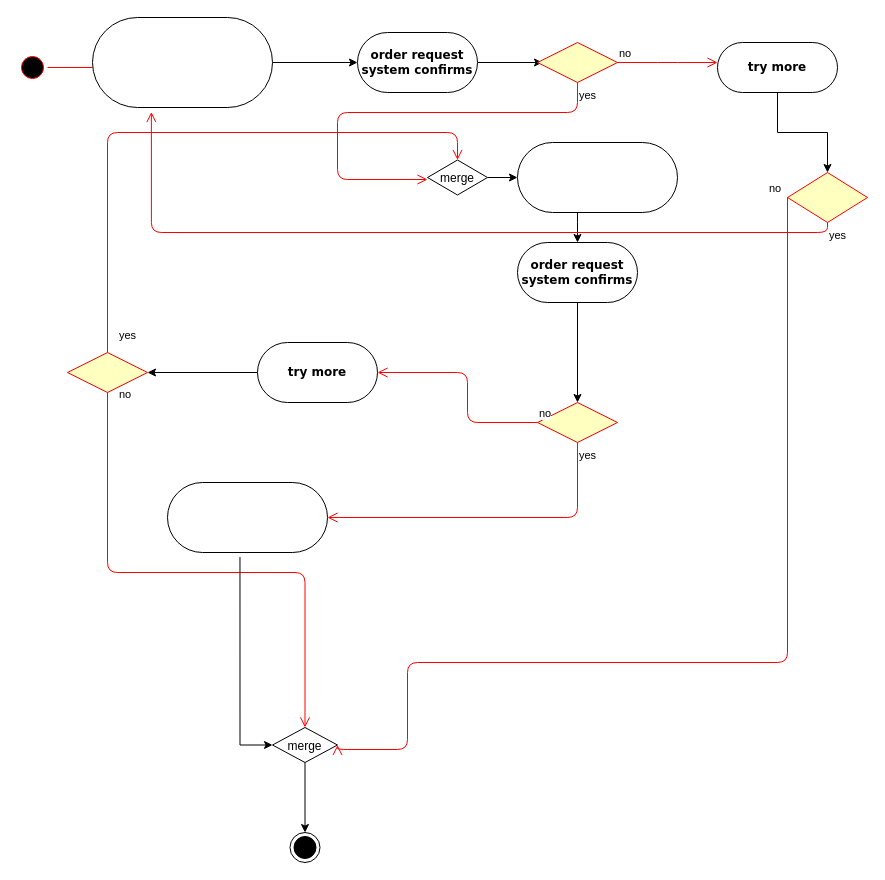
Image size: 885x880. Some labels were removed from this diagram. The shapes that lost their labels are listed below. From the top down, each one's box as (x1, y1, x2, y2) in pixels, then its label:
(92, 16, 272, 108): customer sends a request to see the information of main 10 categories
(516, 142, 678, 212): enter the name of a category you want to see it's information
(166, 482, 328, 552): display information of the chosen category
